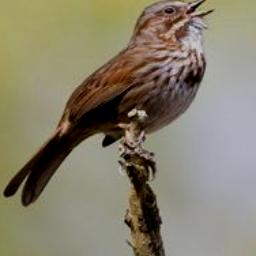Sparrow: (1, 0, 219, 208)
